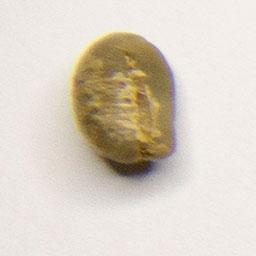peaberry: (67, 28, 181, 172)
